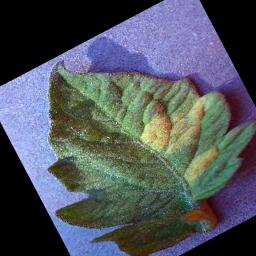Leaf_Mold: (123, 75, 224, 165), (176, 143, 226, 185)
